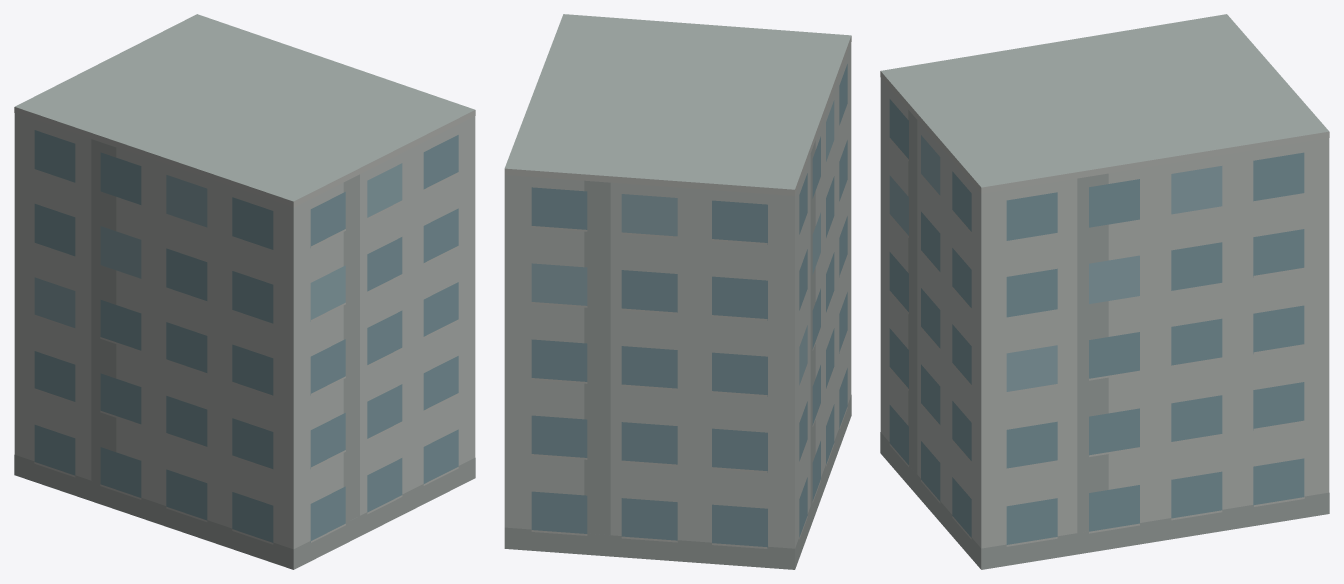
Rendered from survey-upis-32584549.glb.
3 views of the same model, side by side, from view 1: azimuth 30°, elevation 25°; view 2: azimuth 150°, elevation 25°; view 3: azimuth 270°, elevation 25° (orthographic). The views are drawn at different scales.
Visible parts, largest first — view 1: survey-upis-32584549.tmp; view 2: survey-upis-32584549.tmp; view 3: survey-upis-32584549.tmp.
Part boxes in pixels (bbox=[...]): survey-upis-32584549.tmp: bbox=[14, 14, 475, 569]; survey-upis-32584549.tmp: bbox=[504, 14, 851, 569]; survey-upis-32584549.tmp: bbox=[880, 14, 1329, 569].
Bounding box in the file's own units: 14.18 × 14.55 × 15.5.
